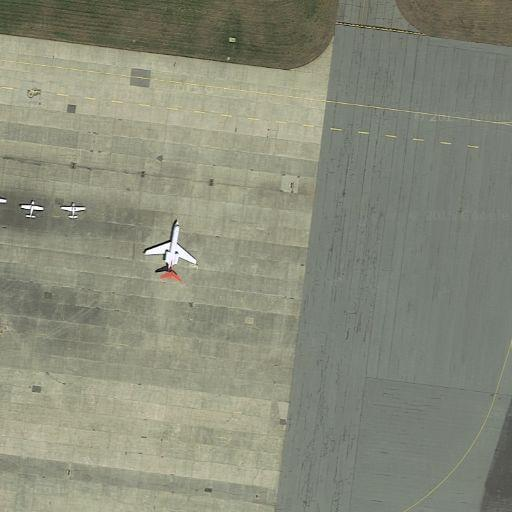plane: (139, 219, 203, 282)
